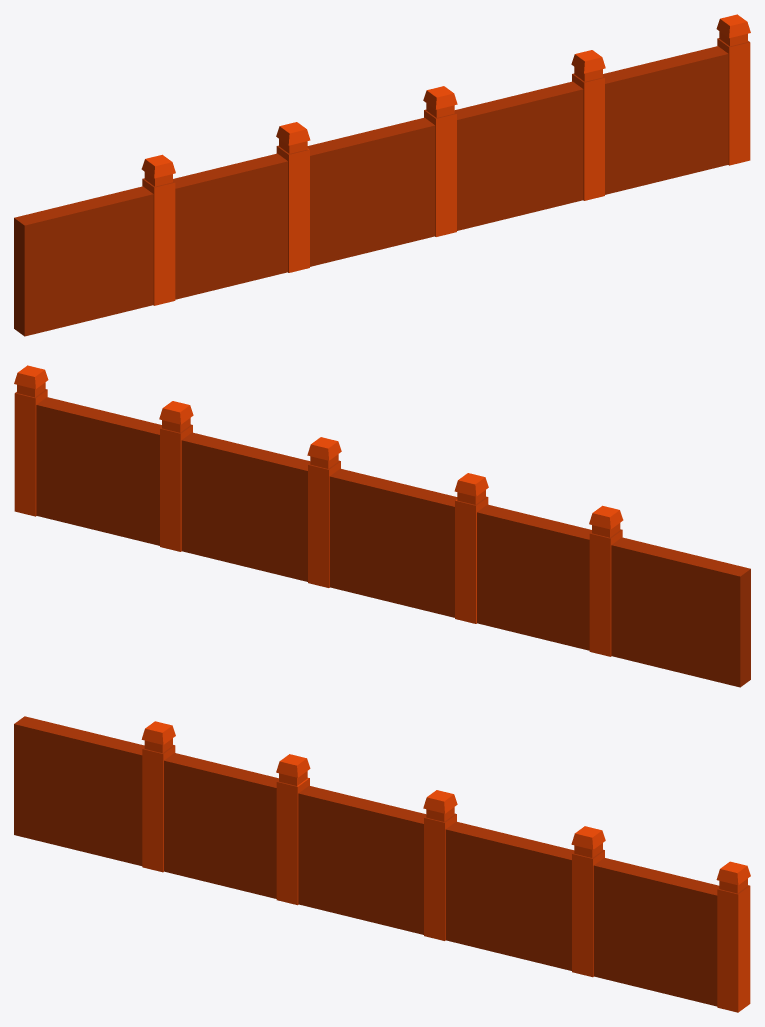
The model's file is Fence.fbx.
3 views of the same model, one above another, from view 1: azimuth 30°, elevation 25°; view 2: azimuth 150°, elevation 25°; view 3: azimuth 330°, elevation 25° (orthographic).
Visible parts, largest first — view 1: Fence; view 2: Fence; view 3: Fence.
Part boxes in pixels (x1,y1,x2,y2): Fence: (14, 14, 750, 336); Fence: (14, 365, 750, 687); Fence: (14, 716, 750, 1012).
Bounding box in the file's own units: 935 × 170 × 28.18.
